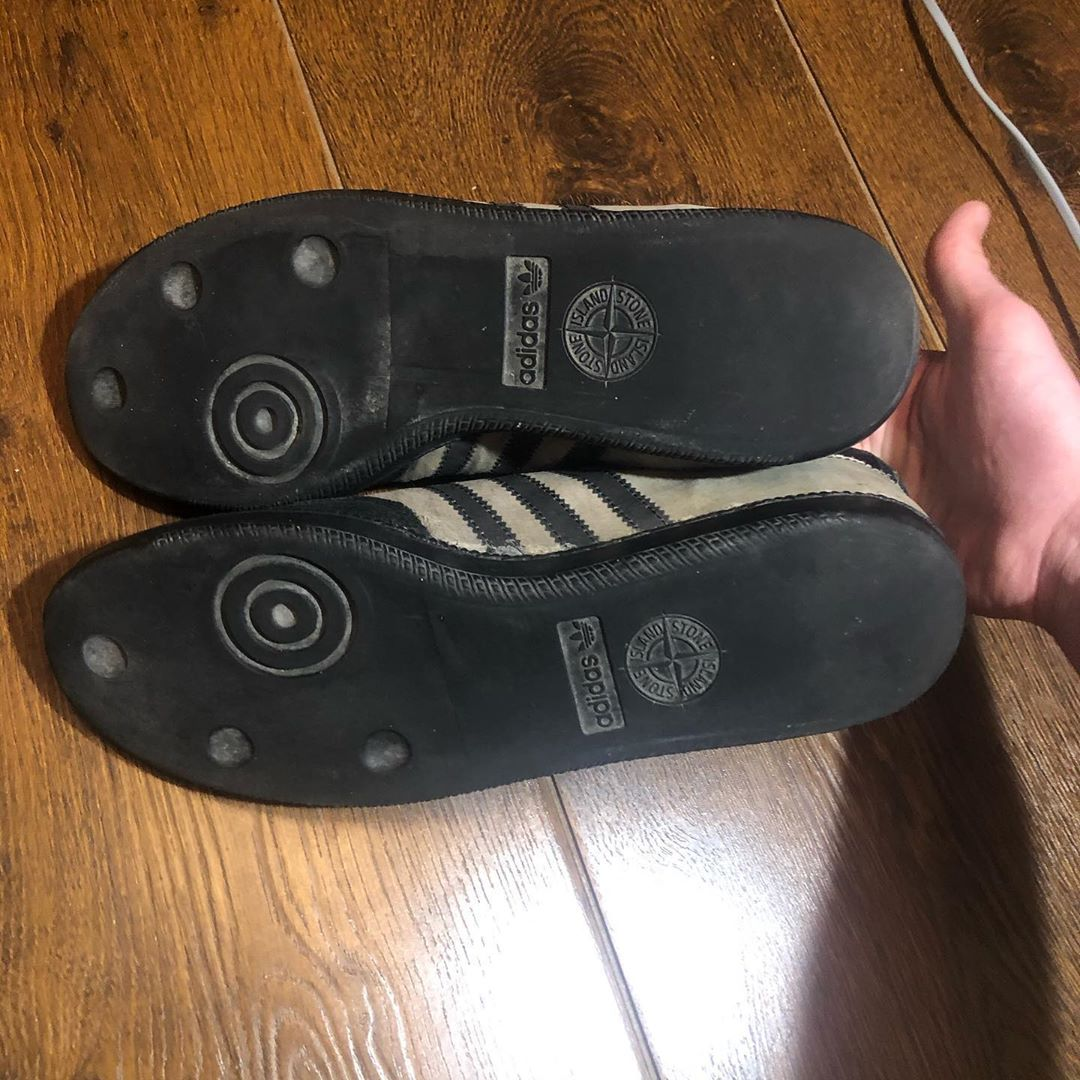adidas_2: (543, 593, 628, 780), (502, 237, 555, 410)
